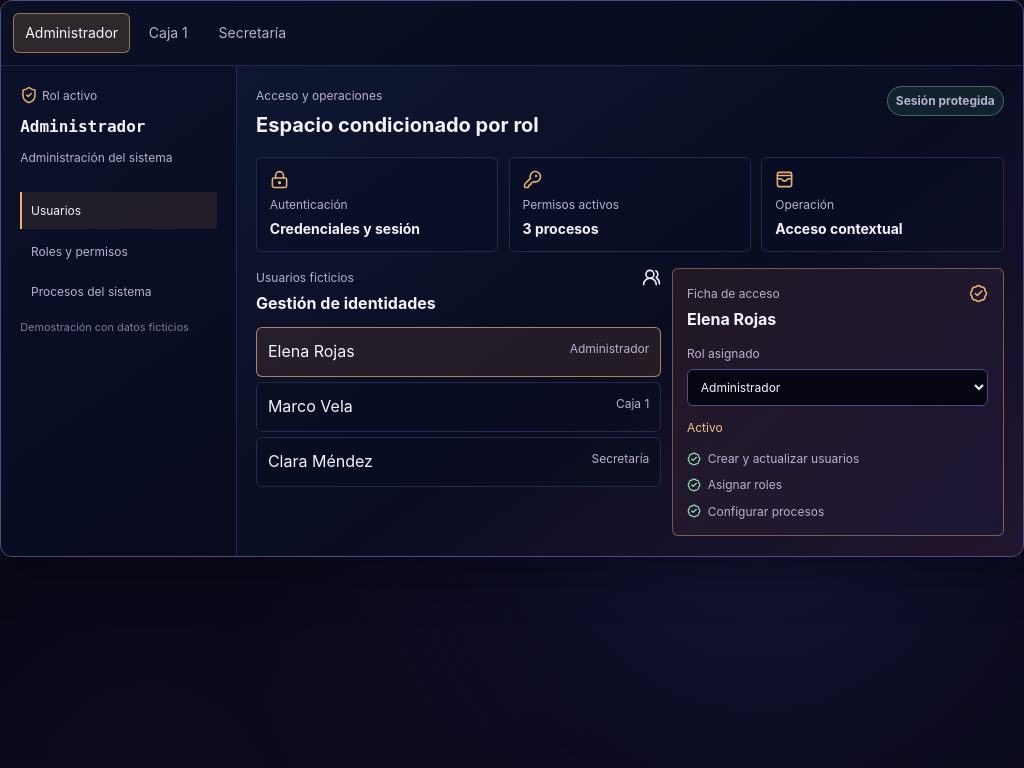
Test: AccessOperationsDemo › updates the role-specific menu and permissions
Step 1. Click the button "Caja 1" → (168, 33), box [137,13,200,53]
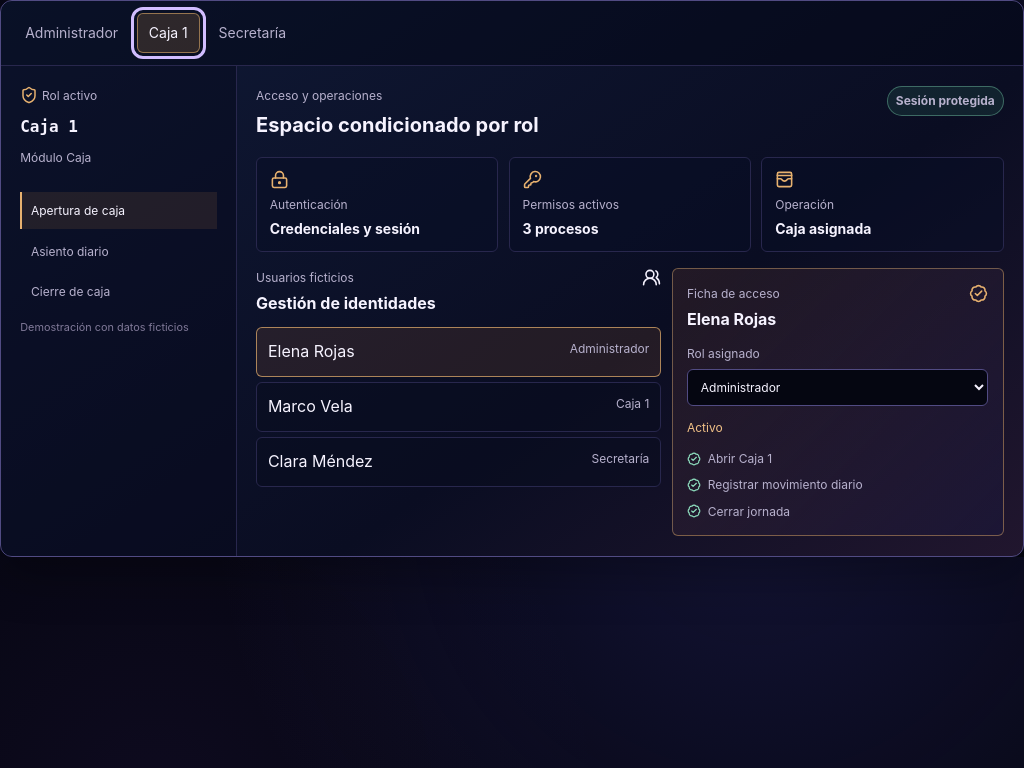
Expected: the navigation bar named "Fictional Caja 1 menu" is shown, [20,192,217,310]
Expected: the button "Apertura de caja" is shown, [20,192,217,229]
Expected: the list item "Cerrar jornada" is shown, [687,504,790,519]
